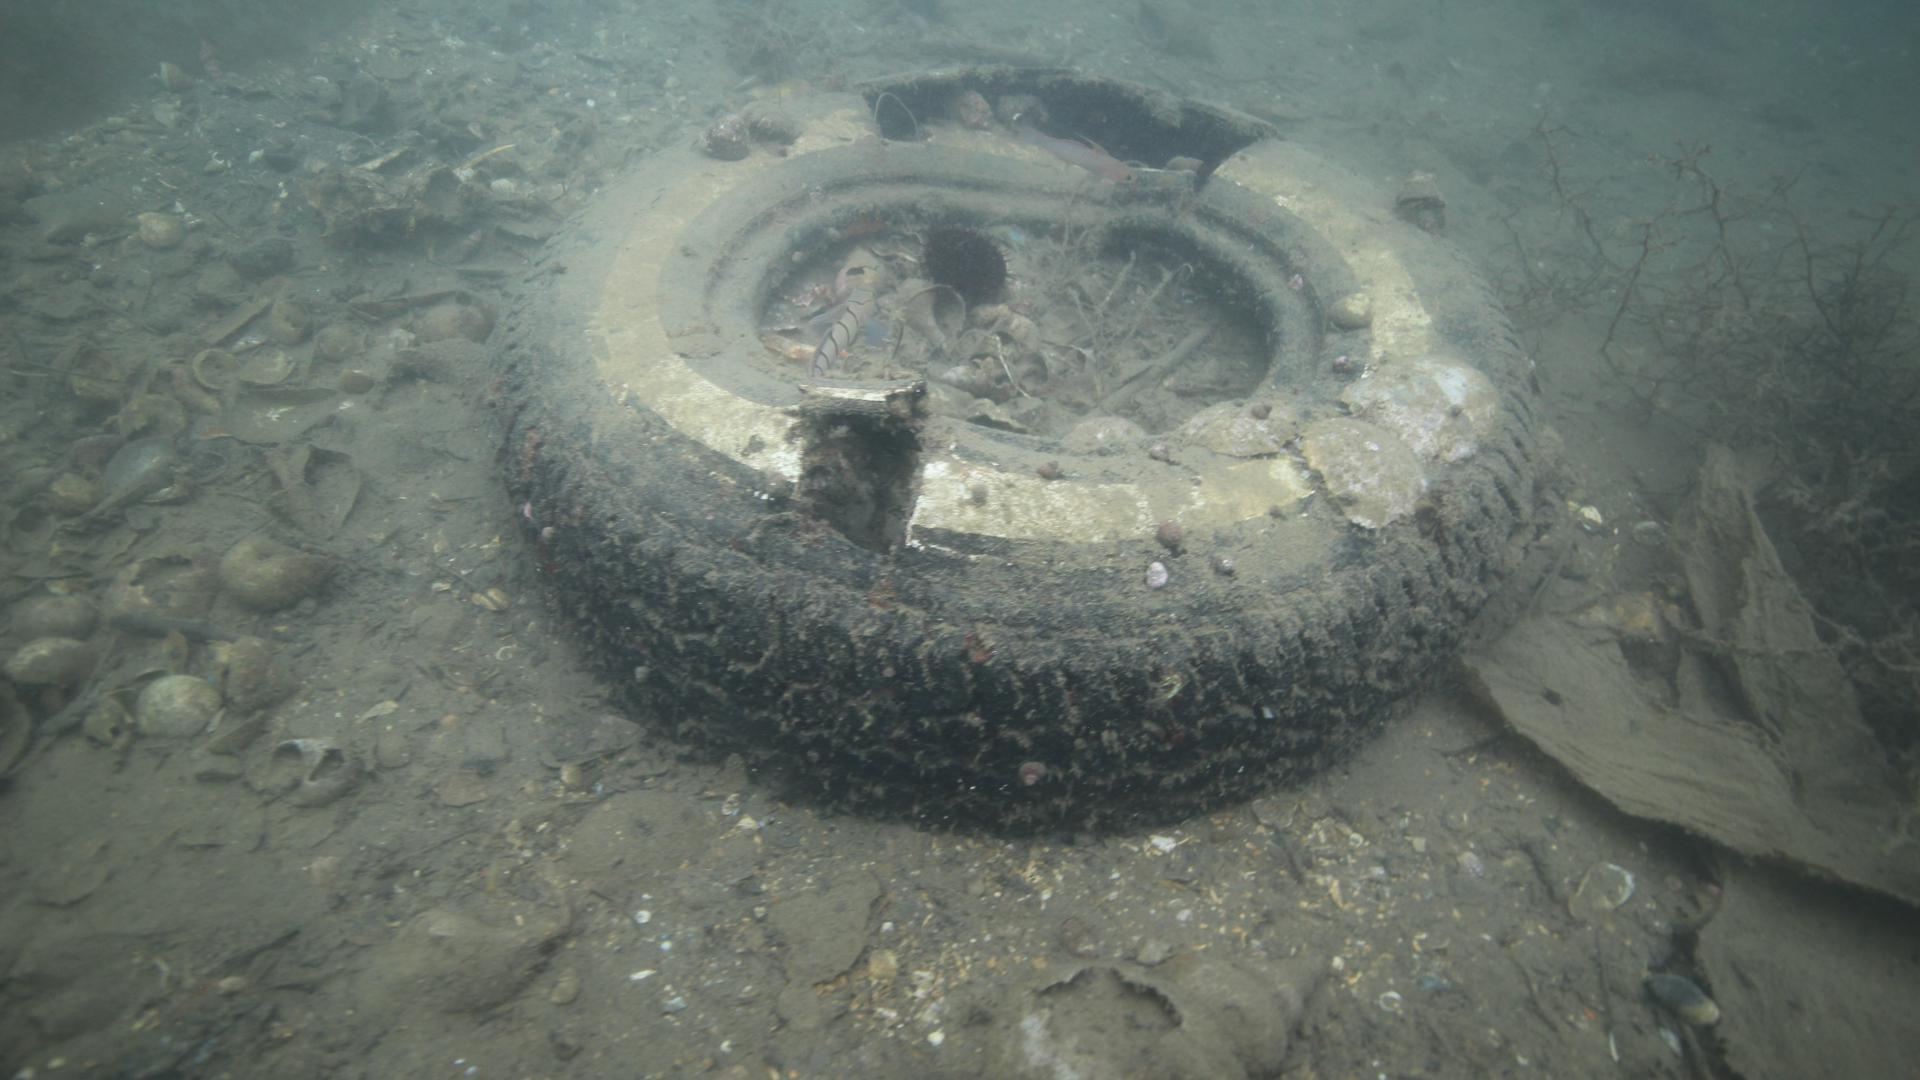tire: (481, 58, 1542, 837)
